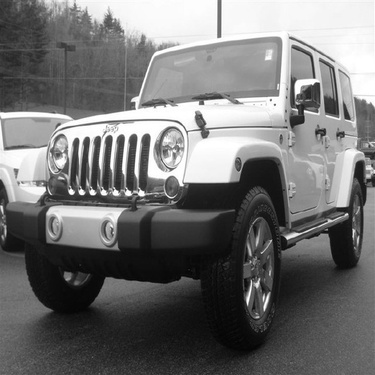car: (1, 27, 370, 356), (2, 109, 78, 258)
